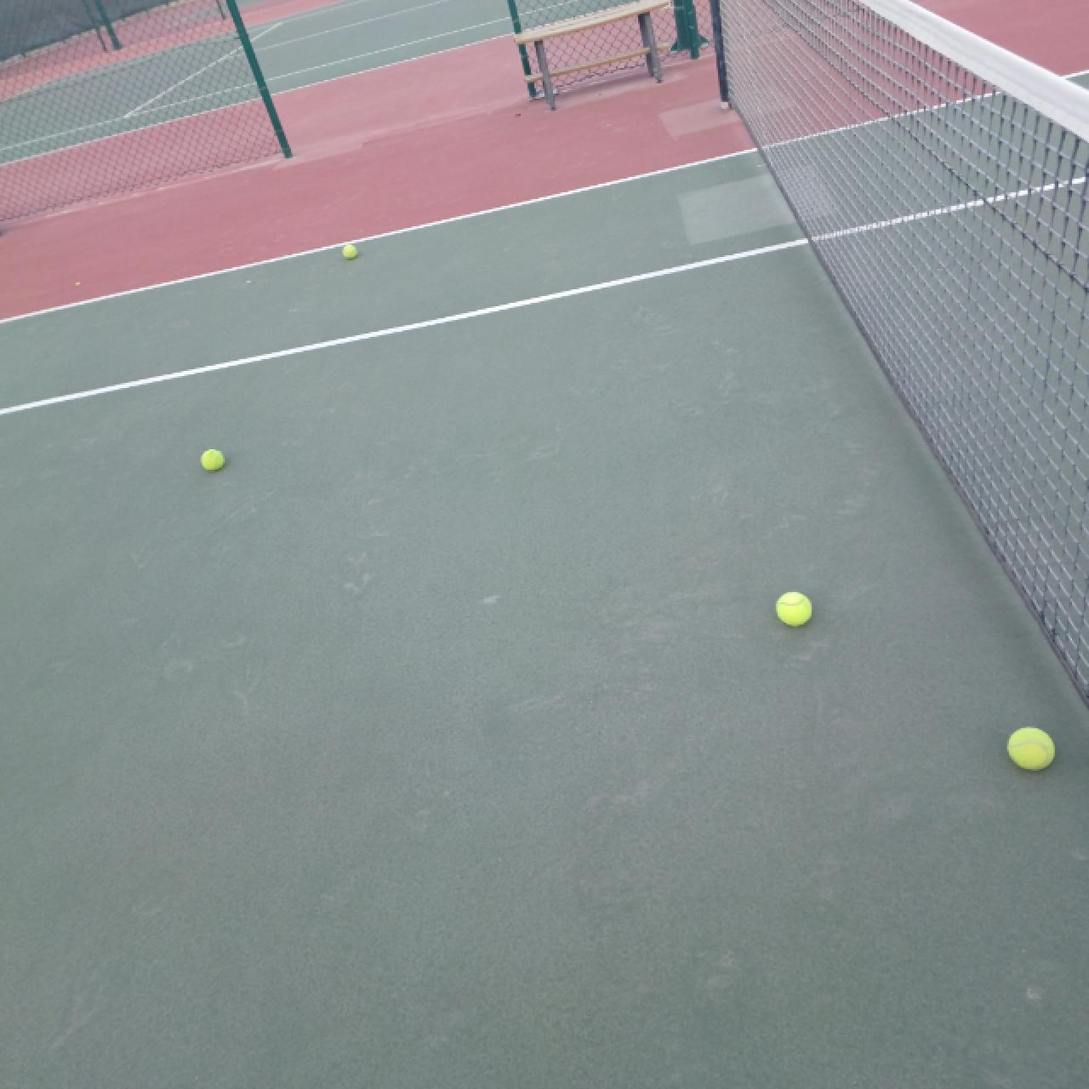tennis-ball: (1007, 726, 1056, 771), (775, 590, 813, 628), (200, 449, 226, 473), (342, 243, 358, 260)
